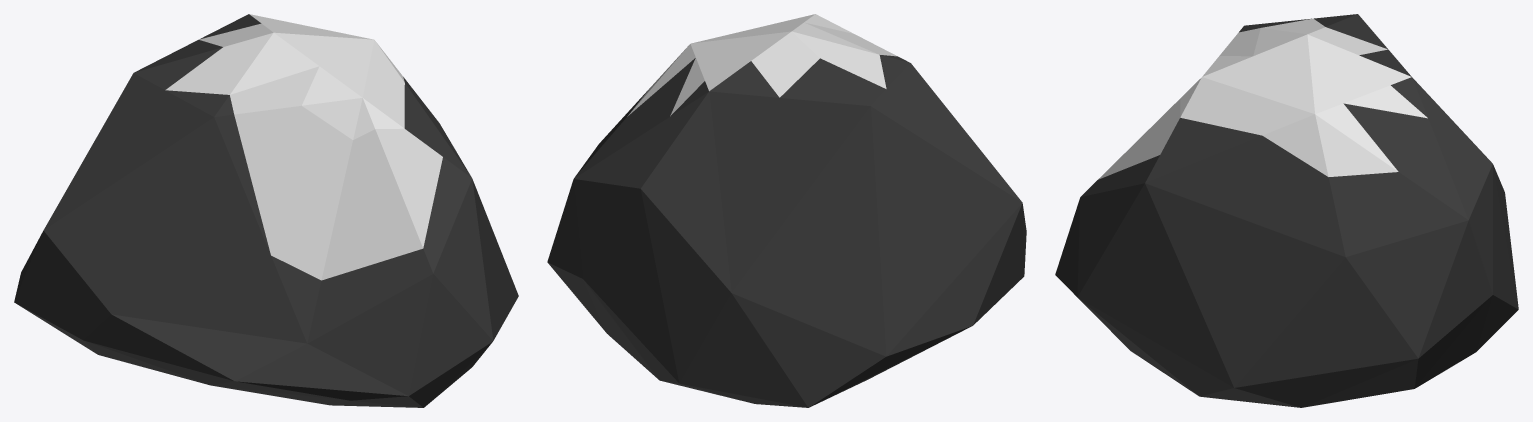
File: stoneWithSnow.glb
3 renders of one model, left to right at view 1: azimuth 30°, elevation 25°; view 2: azimuth 150°, elevation 25°; view 3: azimuth 270°, elevation 25°, orthographic. The views are drawn at different scales.
Parts seen in each view (by area): view 1: StoneWithSnow; view 2: StoneWithSnow; view 3: StoneWithSnow.
Part boxes in pixels (<box>): StoneWithSnow: <box>14,14,518,407</box>; StoneWithSnow: <box>547,14,1026,407</box>; StoneWithSnow: <box>1055,14,1518,407</box>.
Size of the model in its own units: 2.26 by 1.65 by 2.22.
Materials: 1 (1 with a texture image).
